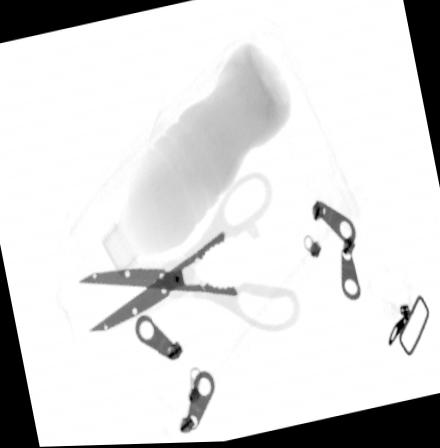Scissors: (75, 171, 298, 334)
